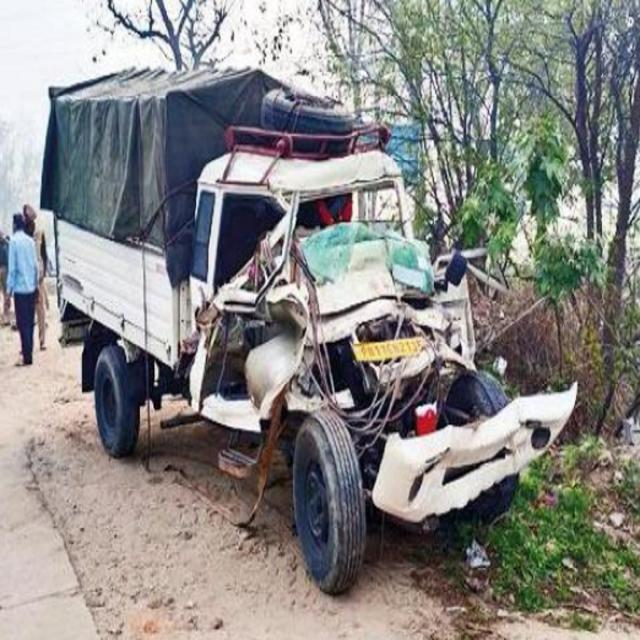accident: (41, 69, 578, 593)
